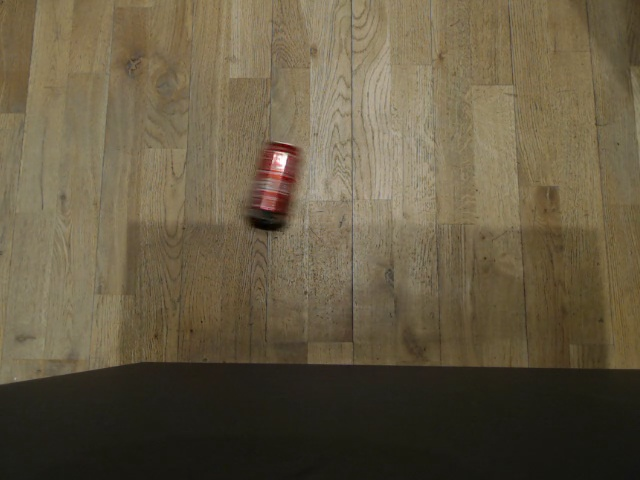coke: (246, 141, 301, 228)
